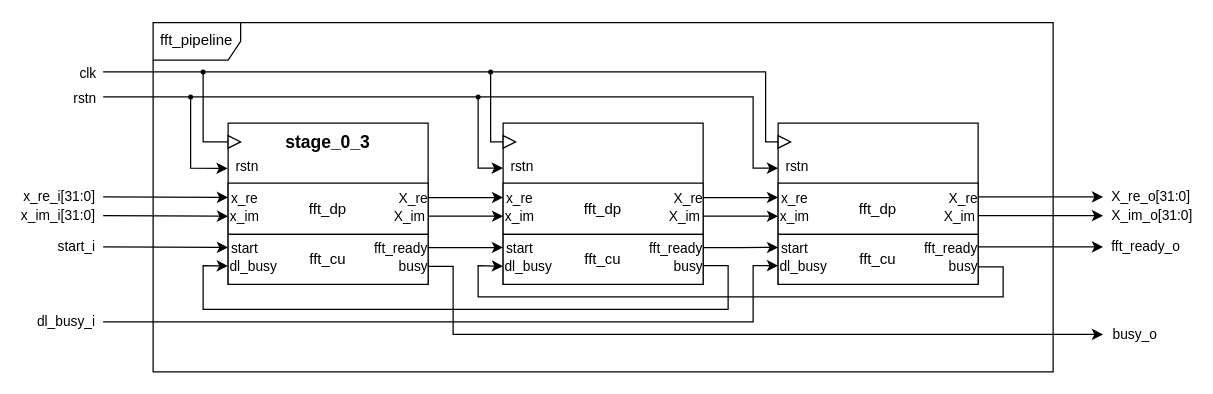
This 1213x394 diagram has some shape labels left out. The shapes that lost their labels are listed below. From the top down, each one's box as (x1, y1, x2, y2) in pixels, then its label:
(502, 122, 703, 284): stage_4_6
(777, 122, 978, 284): stage_7_9
